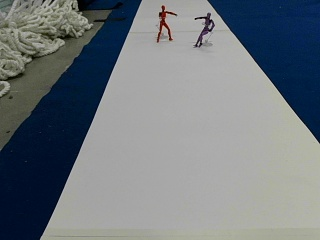pedestrian: (156, 5, 177, 41), (193, 12, 214, 46)
